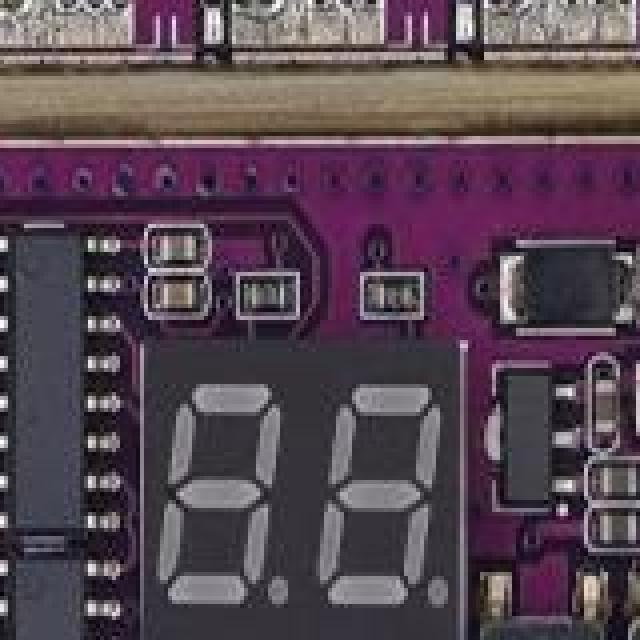IC: (0, 216, 108, 540), (500, 344, 562, 522), (0, 560, 96, 640)
capacitor: (148, 272, 208, 314), (152, 224, 204, 260), (596, 368, 618, 450), (596, 456, 640, 496), (600, 512, 640, 552)
diode: (512, 240, 638, 340)
display: (124, 328, 460, 640)
resistor: (240, 260, 300, 326), (368, 272, 428, 320)
switch: (476, 592, 596, 640), (624, 612, 640, 640)
